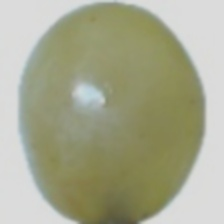grapes: (18, 30, 185, 202)
